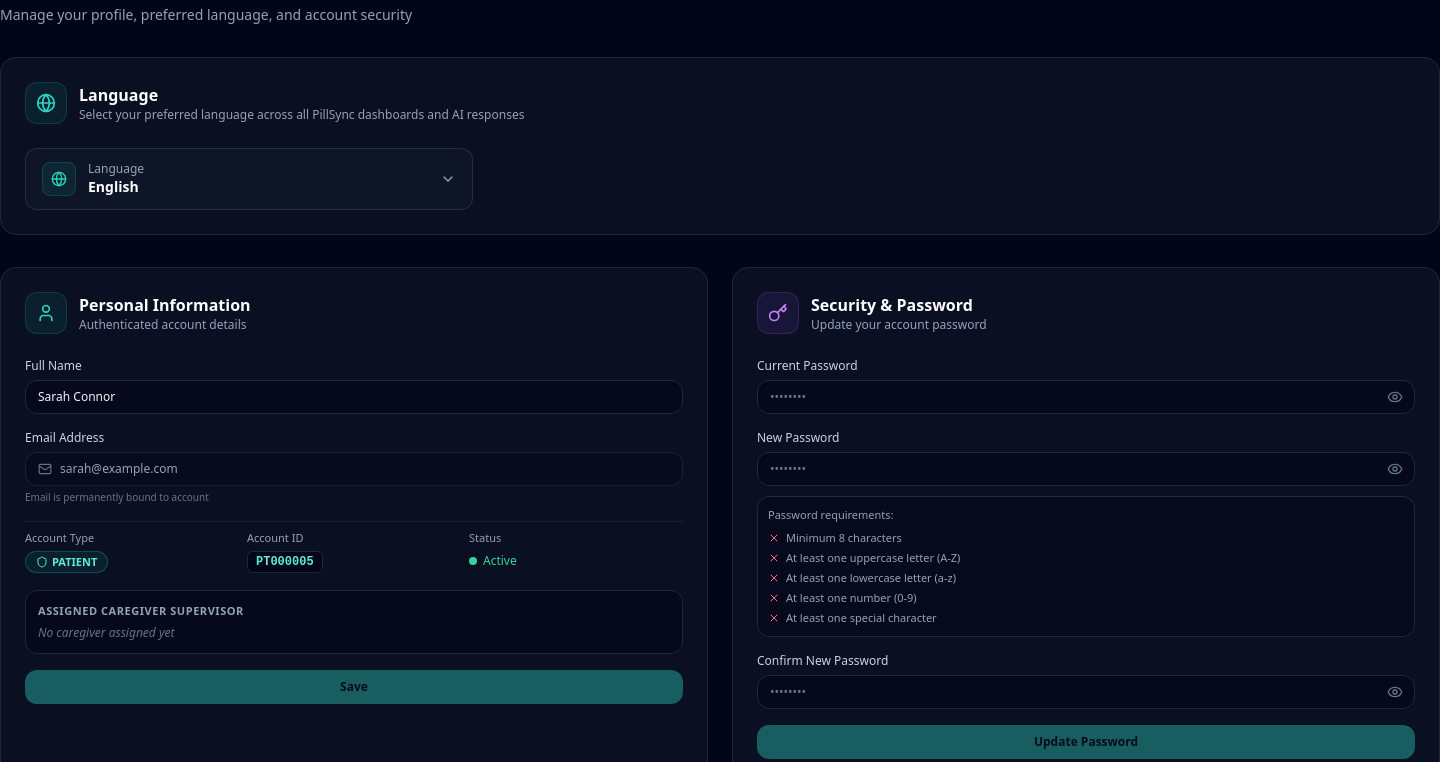
Scenario: Profile Component - Password Change & Eye Toggle Indicators › changes password when valid current and new passwords are supplied
This screenshot has width=1440, height=762.
Type "OldPassword123!" into the password field labelled "Current Password".
click(1086, 397); type("OldPassword123!")  # box [757, 380, 1415, 414]
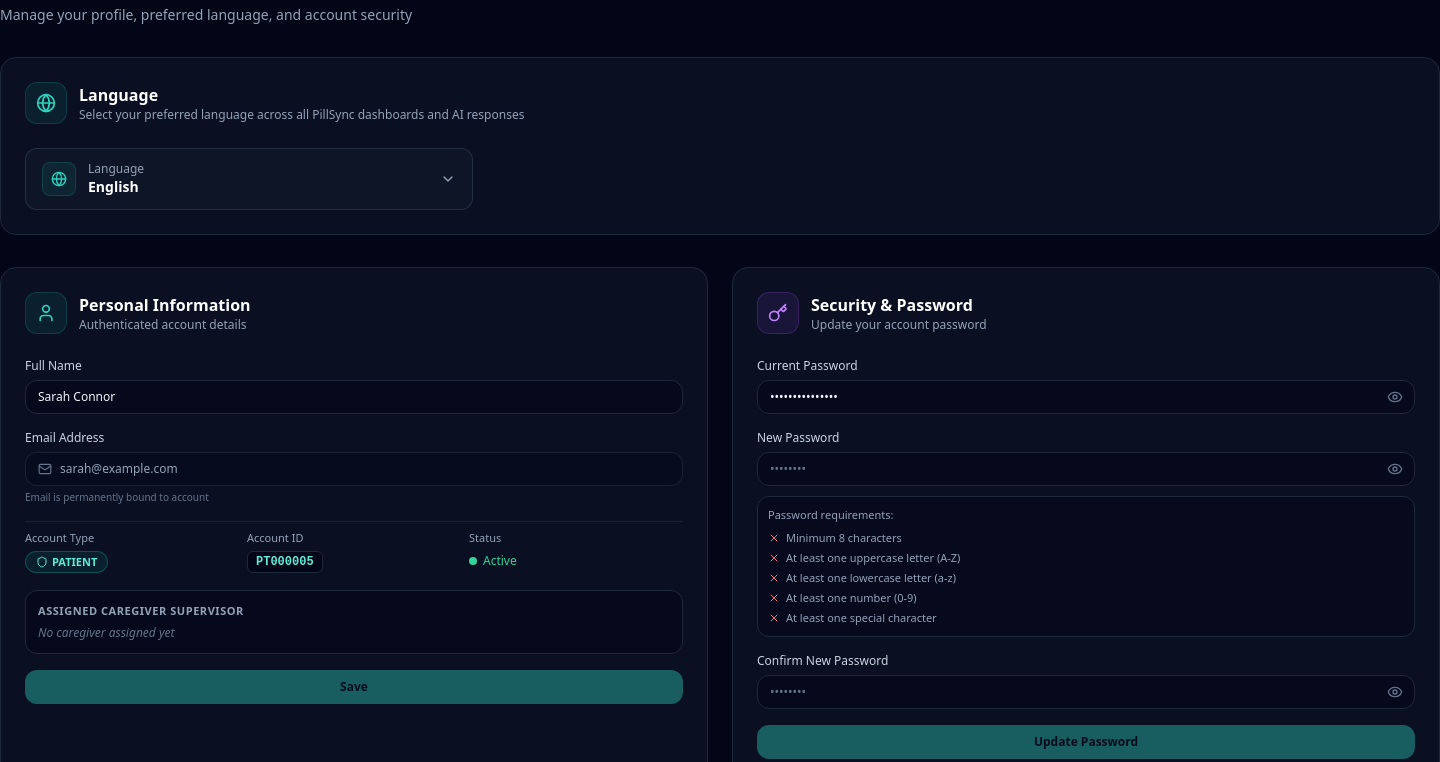
Type "NewPassword456!" into the password field labelled "New Password".
click(1086, 469); type("NewPassword456!")  # box [757, 452, 1415, 486]
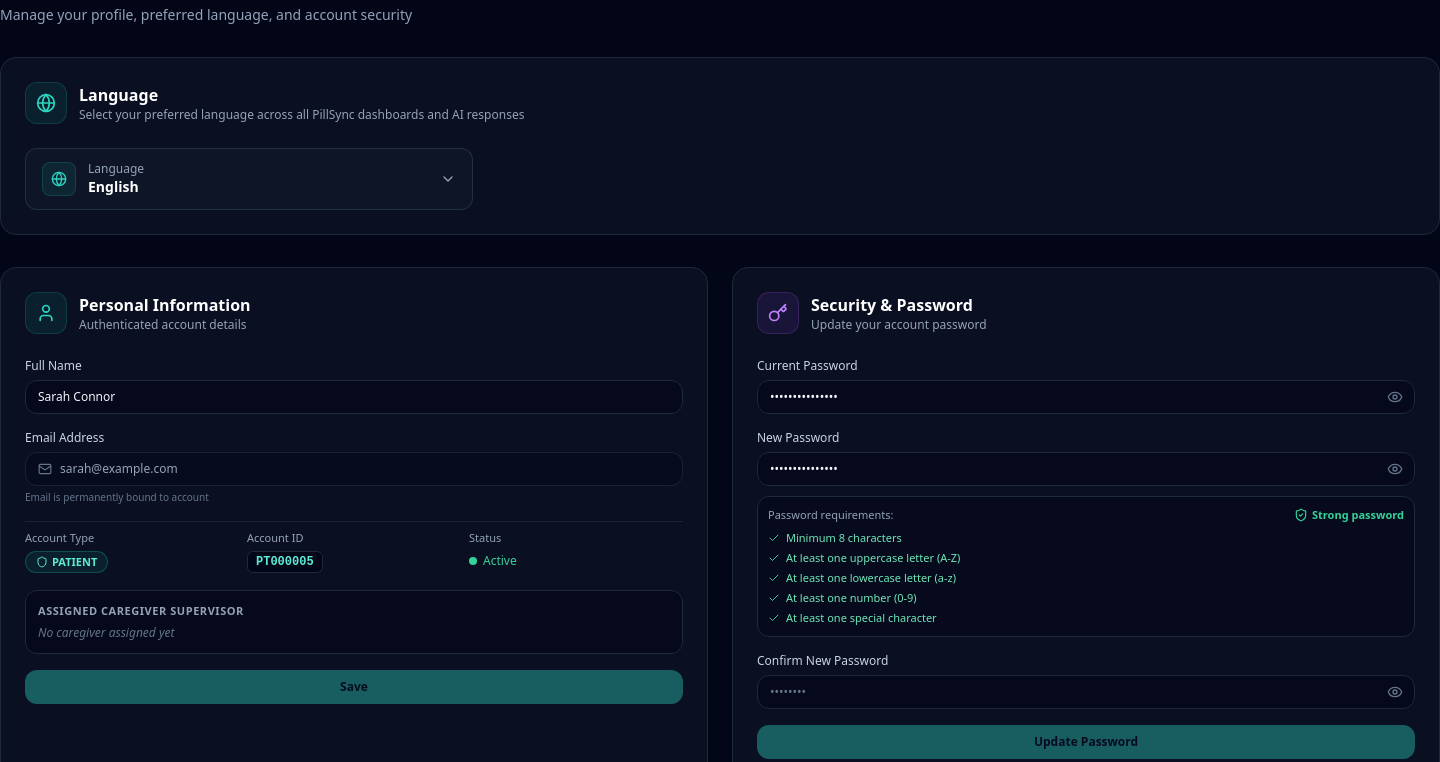
Type "NewPassword456!" into the password field labelled "Confirm New Password".
click(1086, 692); type("NewPassword456!")  # box [757, 674, 1415, 708]
(page scrolled)
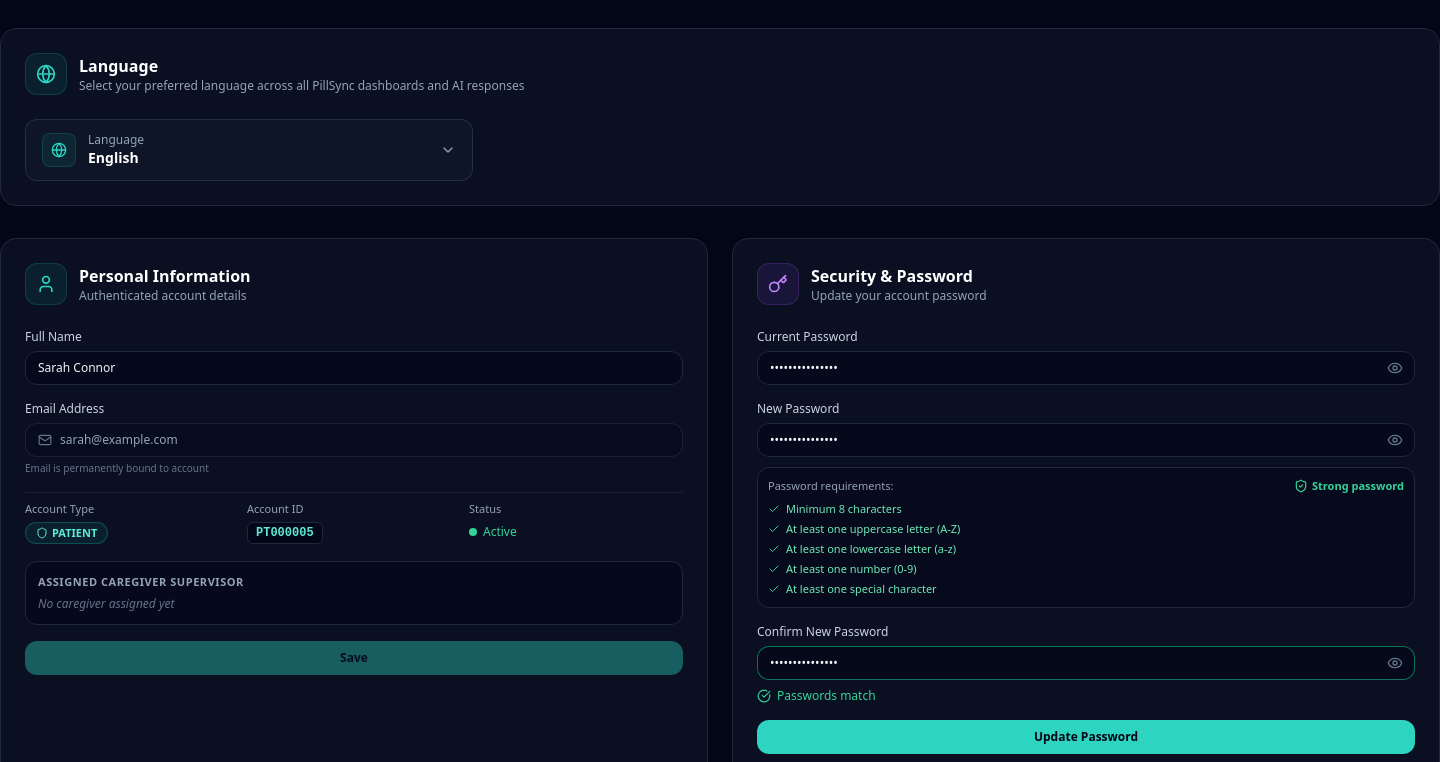
Click the button "Update Password".
click(1086, 736)  # box [757, 720, 1415, 754]
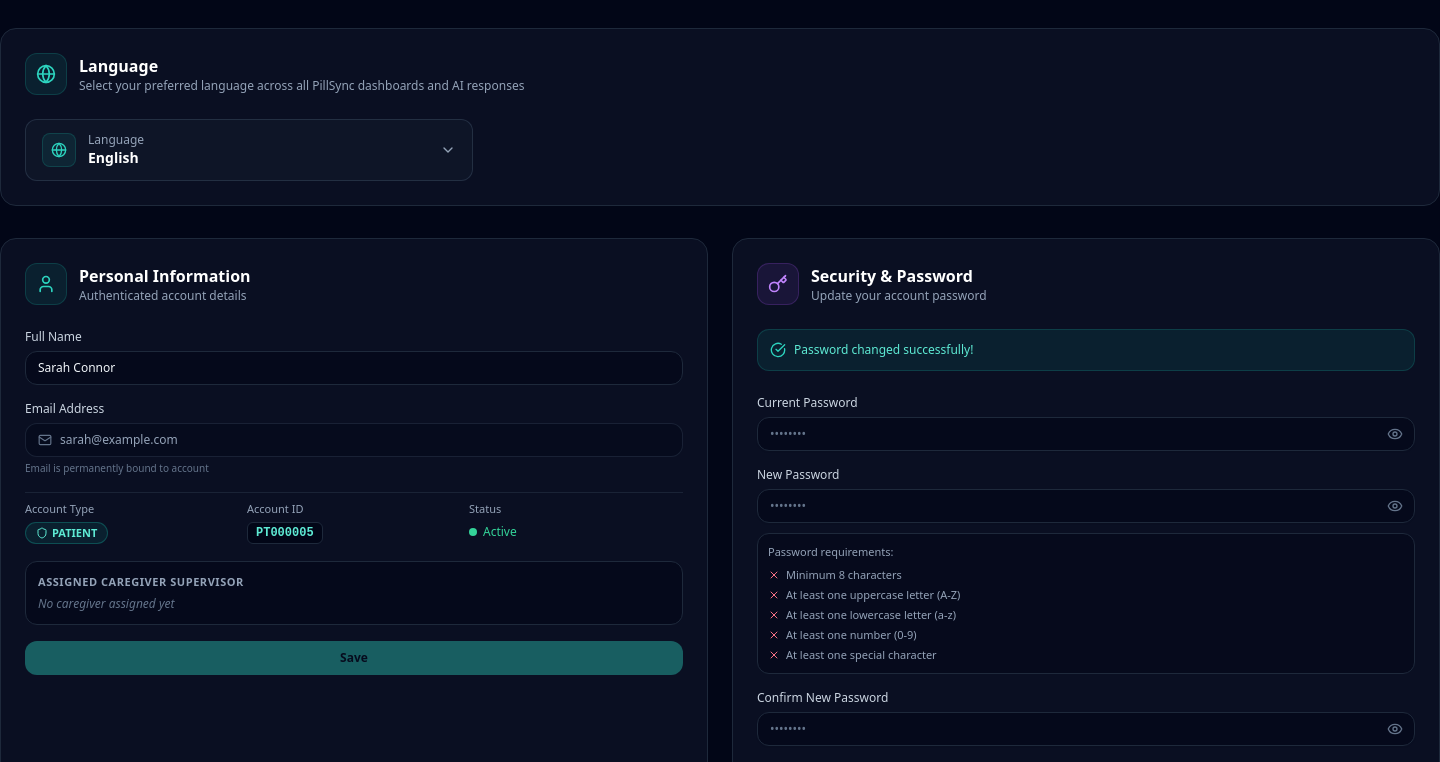
expect the text "Password changed successfully!" is shown: met, box [794, 342, 973, 358]
